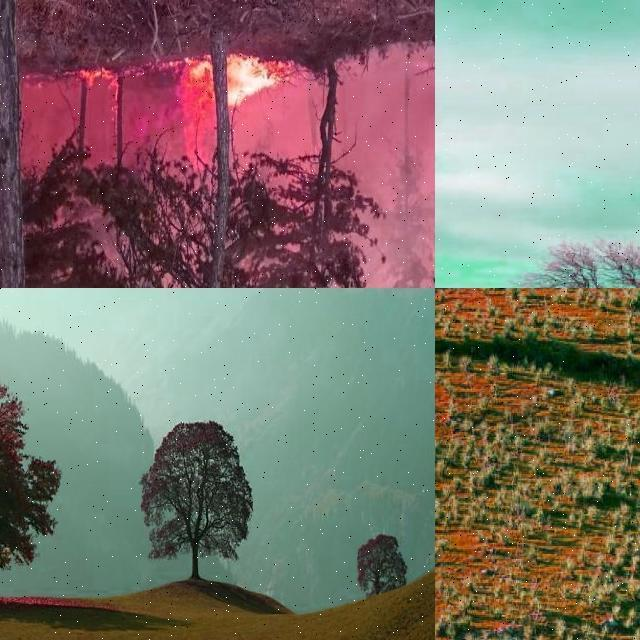tree: (76, 30, 272, 288), (243, 68, 375, 288), (0, 0, 100, 288), (0, 370, 96, 602), (140, 422, 252, 582), (0, 56, 52, 288), (386, 45, 434, 288), (352, 530, 408, 602), (434, 288, 466, 348)
